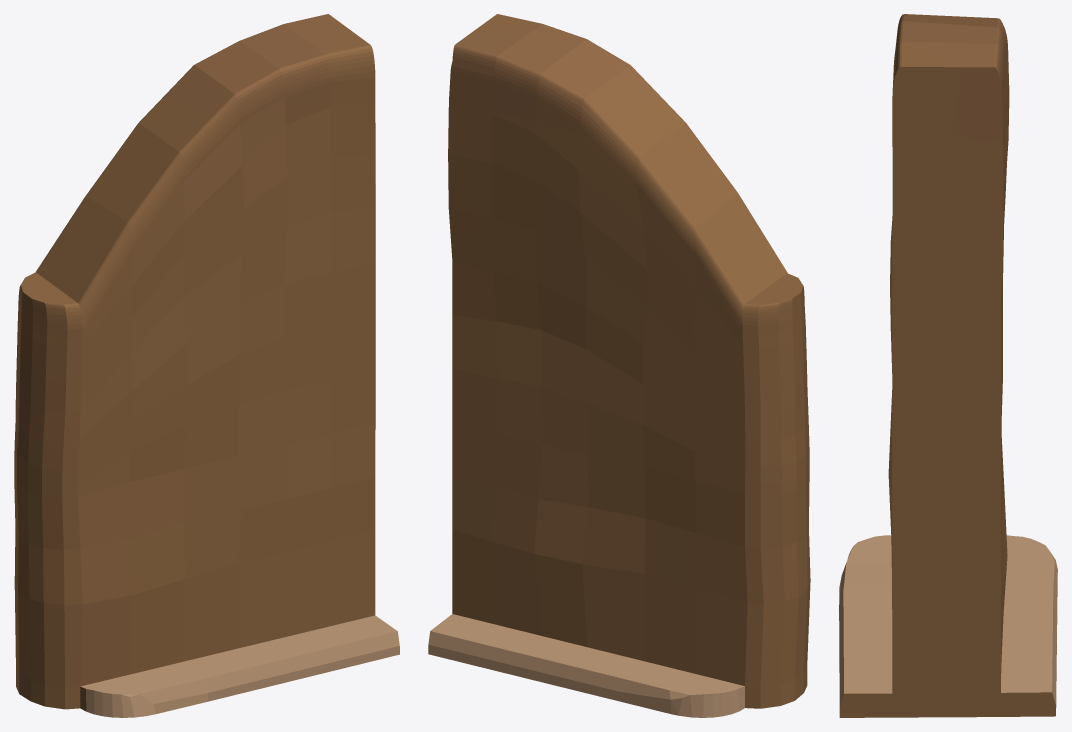
File: Wall Mud-Edge.fbx
3 views of the same model, side by side, from view 1: azimuth 30°, elevation 25°; view 2: azimuth 150°, elevation 25°; view 3: azimuth 270°, elevation 25° (orthographic). The views are drawn at different scales.
Parts seen in each view (by area): view 1: Wall Mud-Edge; view 2: Wall Mud-Edge; view 3: Wall Mud-Edge.
Boxes of the visible parts, box(x1,y1,x2,y2) form: Wall Mud-Edge: box(14, 14, 399, 717); Wall Mud-Edge: box(428, 14, 810, 717); Wall Mud-Edge: box(839, 14, 1057, 717).
Size of the model in its own units: 202 by 346 by 105.
